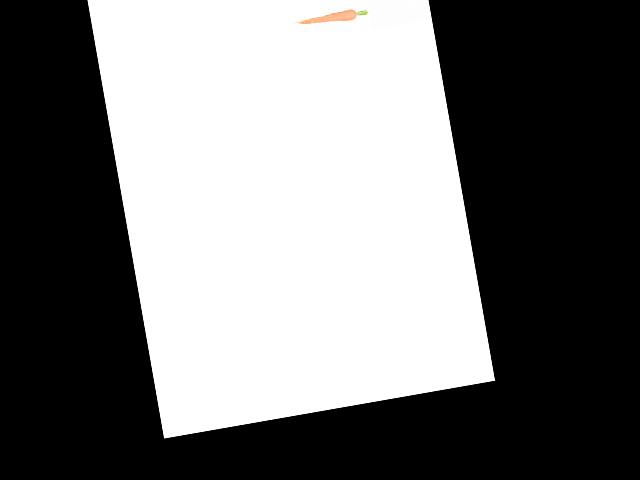carrot: (292, 5, 359, 33)
